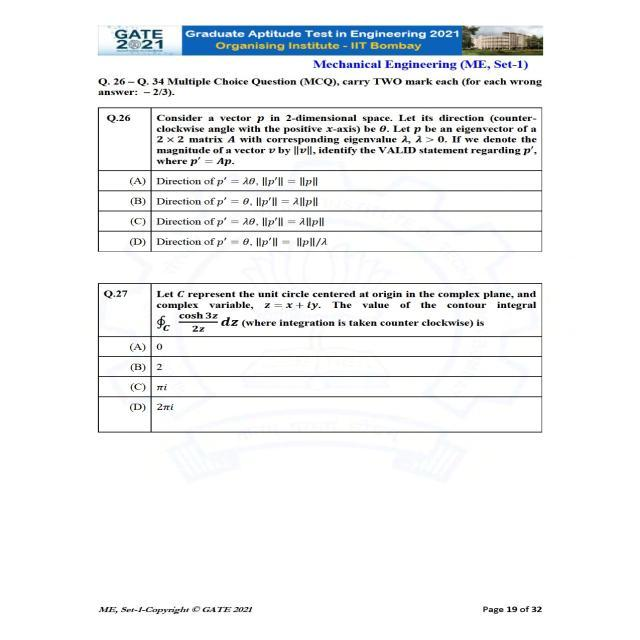Answer_Block: (36, 336, 611, 434), (36, 172, 611, 268)
Question_Answer_Block: (36, 106, 611, 268), (36, 284, 611, 435)
Question_Block: (36, 106, 611, 170), (36, 284, 611, 338)
Question_Paper_Area: (36, 74, 611, 498)
